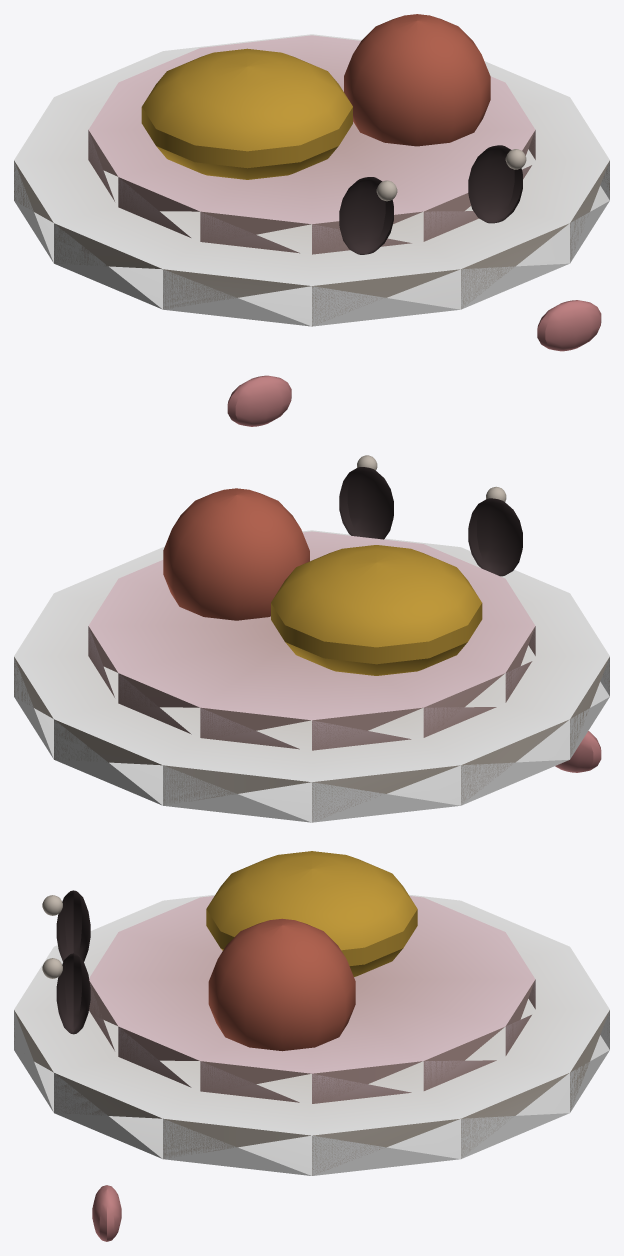
The model's file is pbac73bb1.glb.
3 views of the same model, one above another, from view 1: azimuth 30°, elevation 25°; view 2: azimuth 150°, elevation 25°; view 3: azimuth 270°, elevation 25° (orthographic).
Parts seen in each view (by area): view 1: pet_pbac73bb1; view 2: pet_pbac73bb1; view 3: pet_pbac73bb1.
Part boxes in pixels (<box>): pet_pbac73bb1: <box>14,14,609,426</box>; pet_pbac73bb1: <box>14,455,609,822</box>; pet_pbac73bb1: <box>14,851,609,1241</box>.
Size of the model in its own units: 0.4 by 0.2076 by 0.4.
